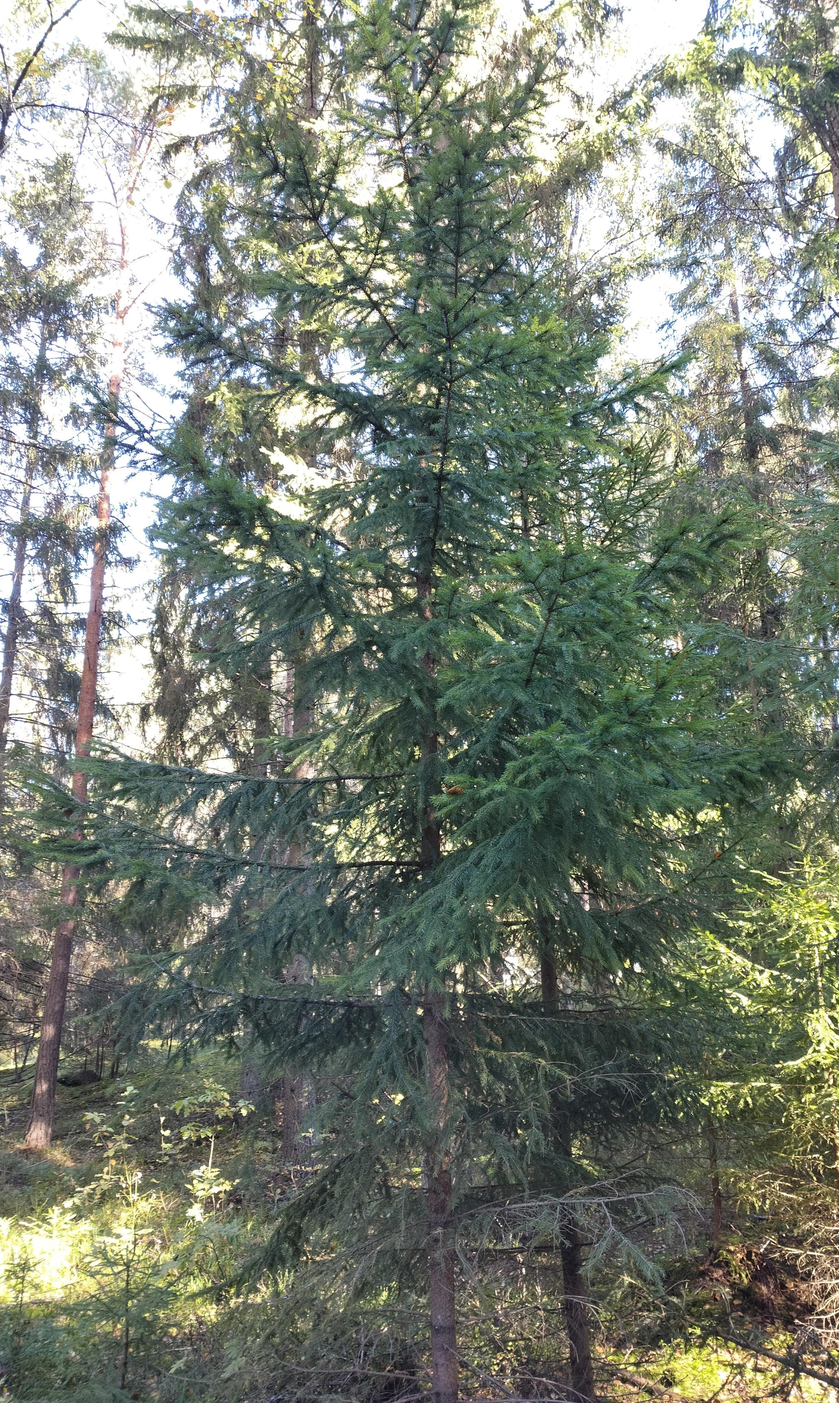Spruce: (155, 4, 744, 1403)
